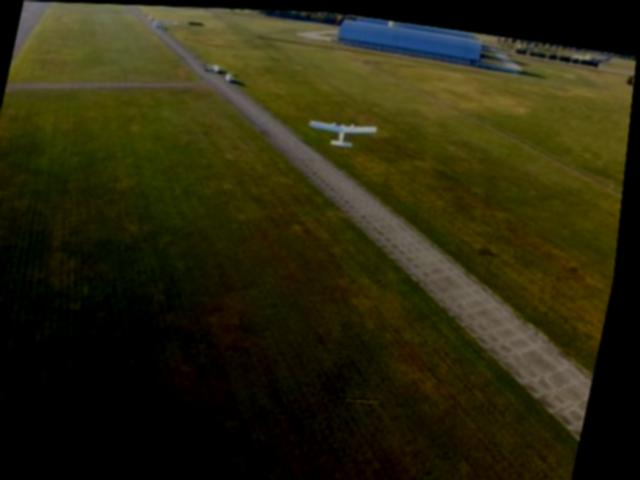uav: (307, 113, 381, 148)
